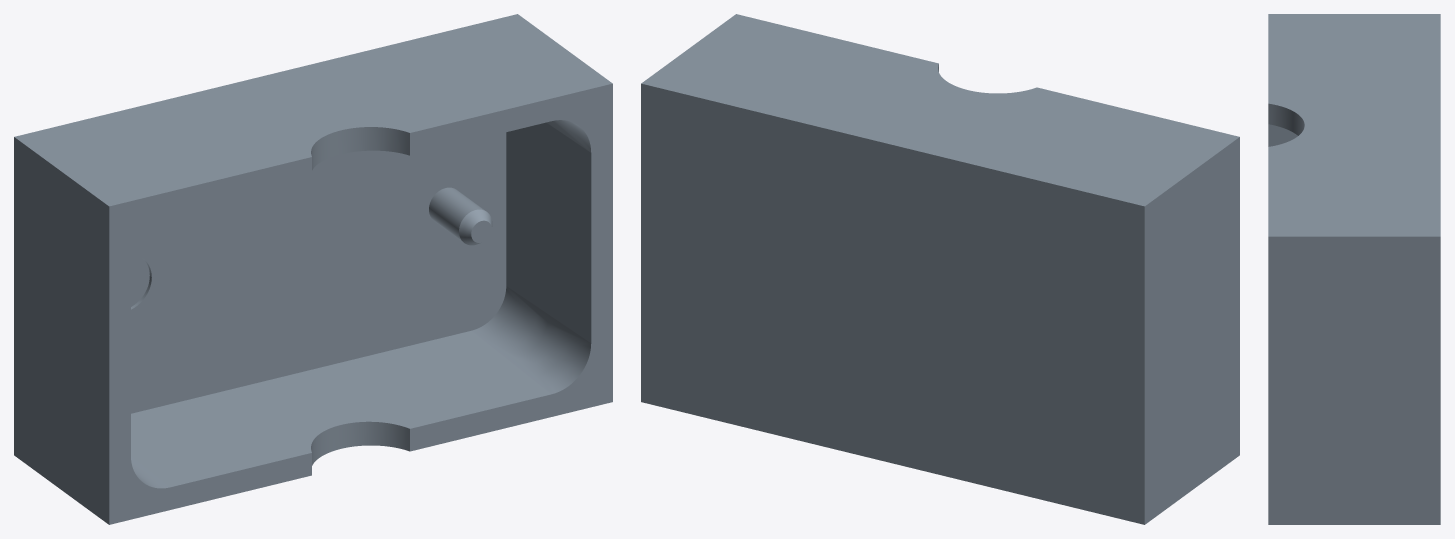
Rendered from .pot_mold.step.glb.
The picture shows the model from 3 angles, left to right: view 1: azimuth 30°, elevation 25°; view 2: azimuth 150°, elevation 25°; view 3: azimuth 270°, elevation 25°; orthographic projection. The views are drawn at different scales.
Parts seen in each view (by area): view 1: o1.1; view 2: o1.1; view 3: o1.1.
Boxes of the visible parts, x1,y1,x2,y2 form: o1.1: (14, 14, 612, 524); o1.1: (641, 14, 1239, 524); o1.1: (1268, 14, 1440, 524).
Size of the model in its own units: 0.0581 by 0.0351 by 0.019.
